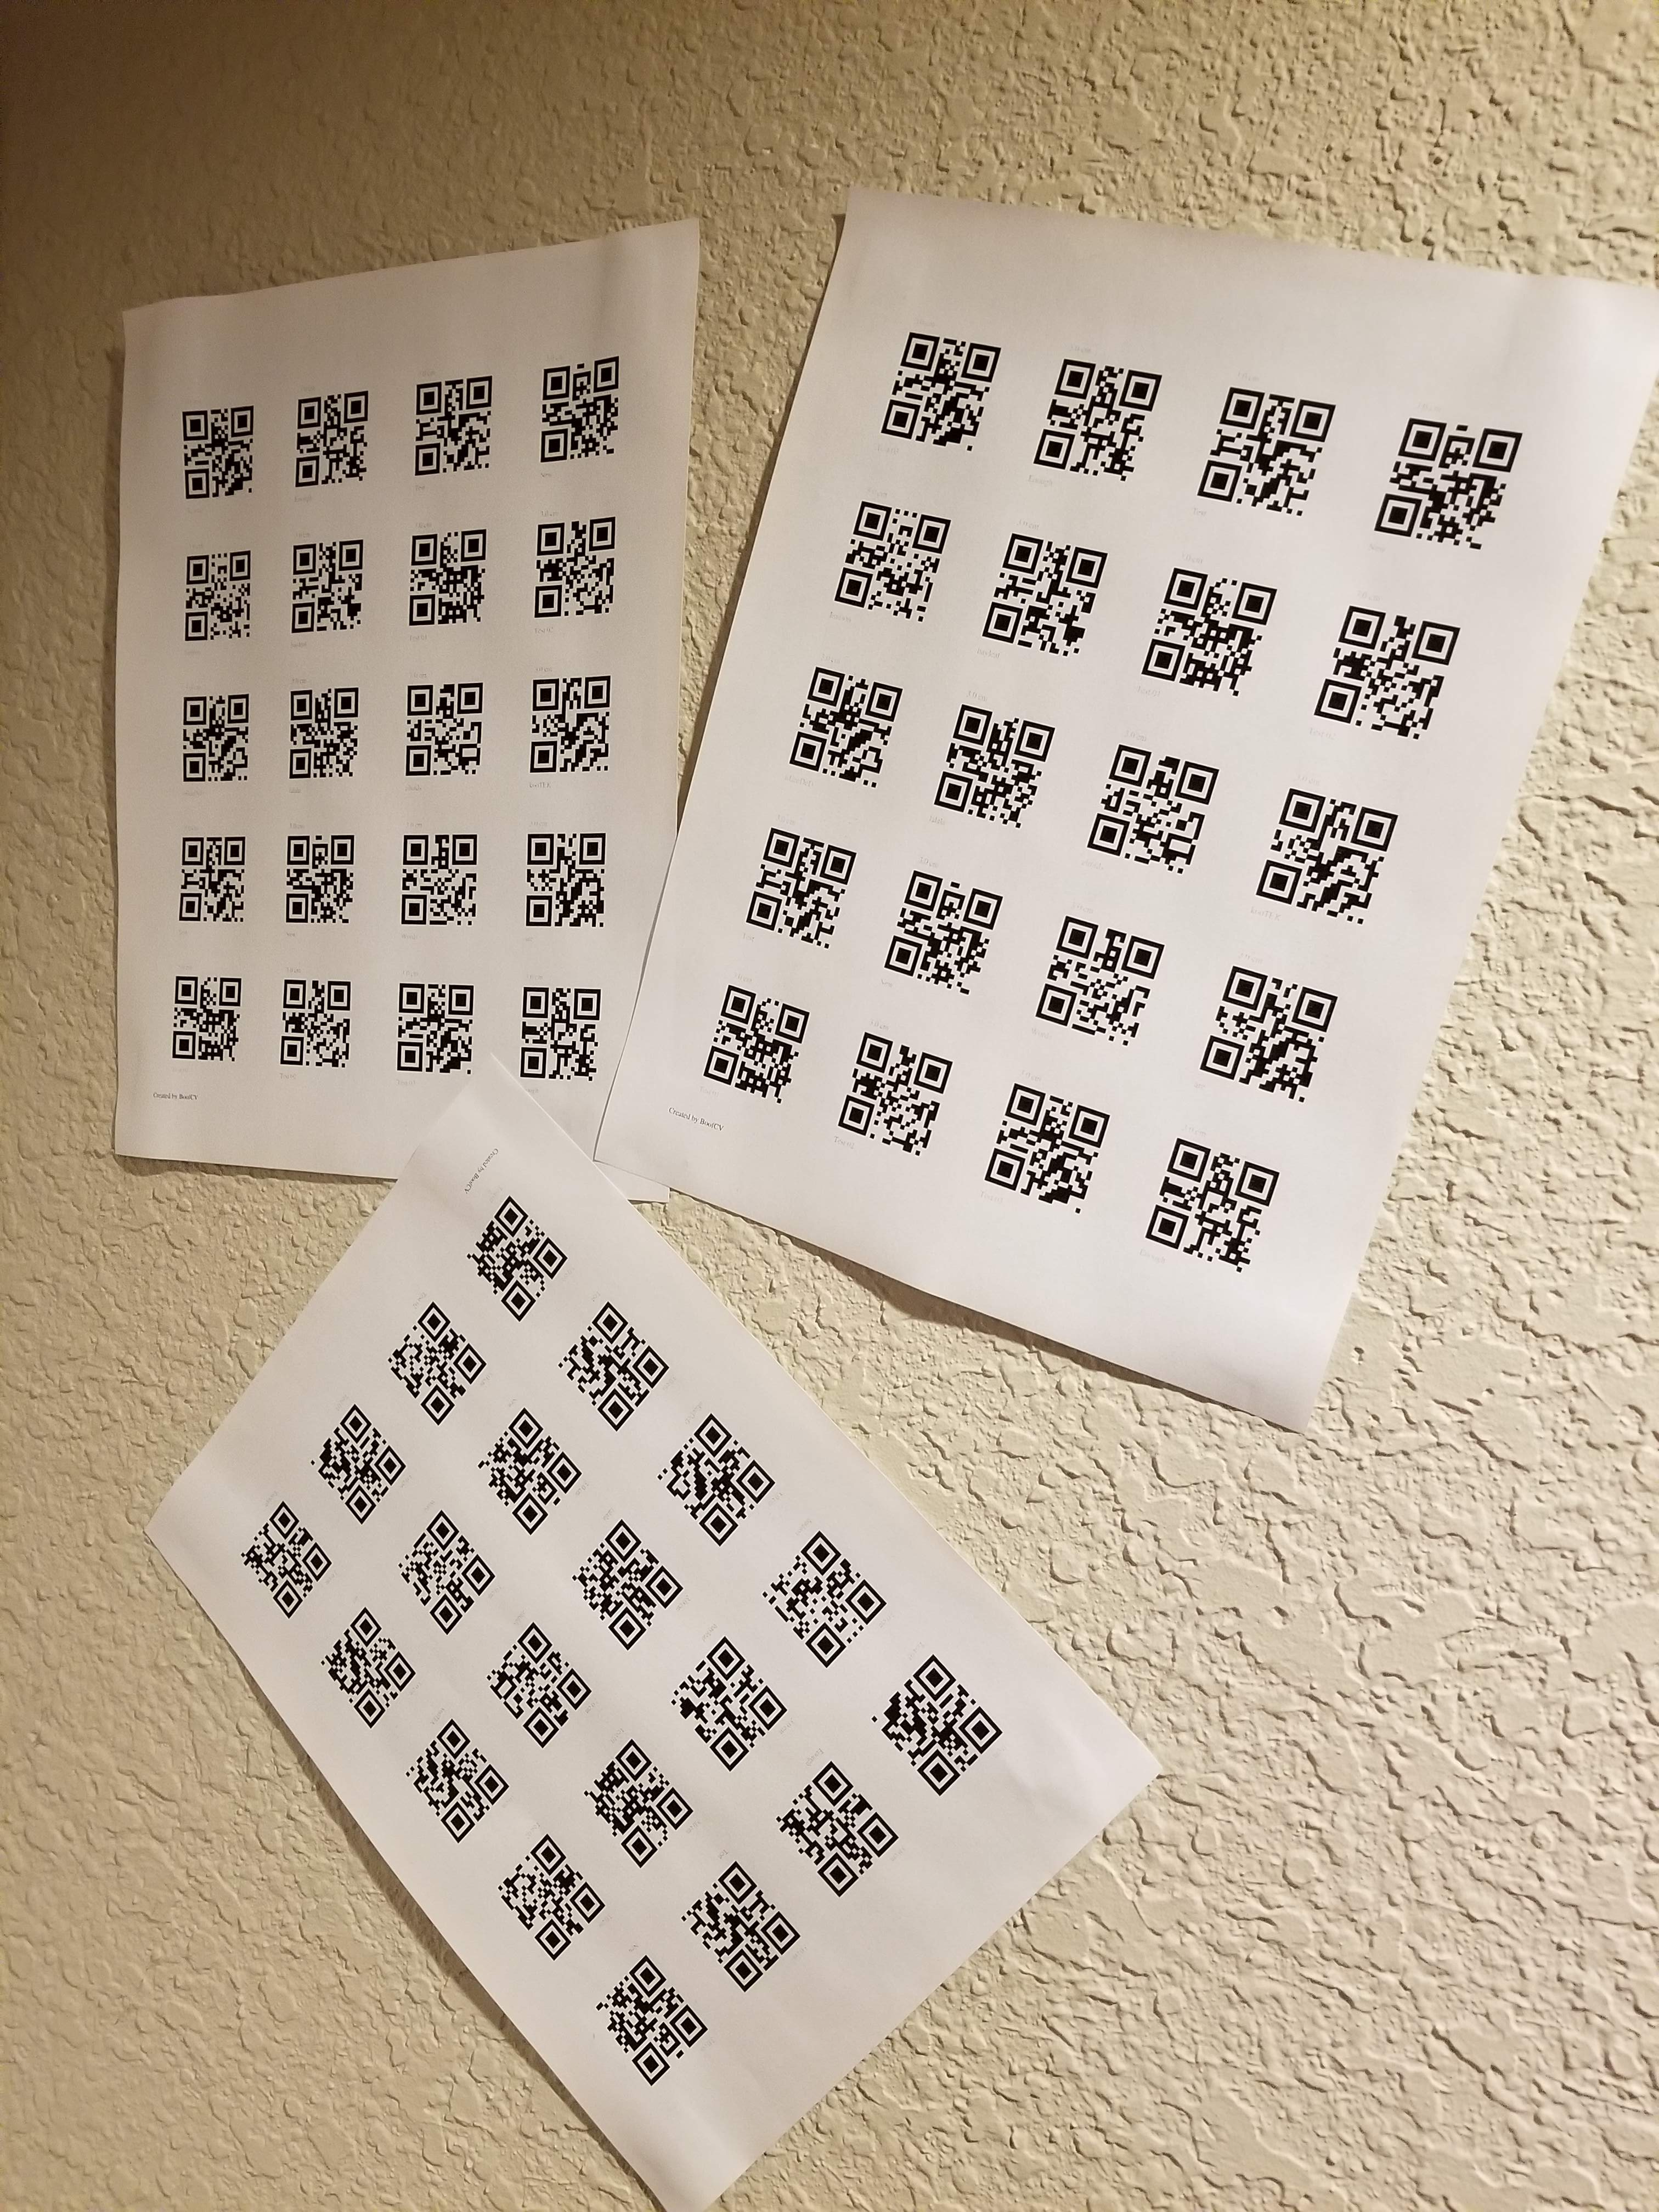QR_CODE: (1131, 1123, 1307, 1303), (1364, 402, 1534, 566), (1307, 583, 1467, 756), (1246, 768, 1406, 941), (1187, 948, 1344, 1122), (969, 1066, 1122, 1242), (767, 1750, 941, 1900), (1127, 542, 1284, 707), (1188, 362, 1338, 529), (1077, 726, 1223, 897), (859, 1642, 1012, 1804), (1018, 902, 1175, 1057), (814, 479, 967, 634), (1019, 347, 1171, 500), (756, 1517, 894, 1679), (559, 1503, 704, 1655), (823, 1014, 955, 1179), (671, 1851, 816, 2000), (582, 1947, 727, 2094), (873, 852, 1007, 1007), (864, 317, 1011, 458), (925, 690, 1061, 841), (662, 1622, 793, 1778), (971, 523, 1115, 664), (775, 653, 910, 803), (681, 968, 814, 1116), (647, 1407, 779, 1555), (375, 1289, 505, 1437), (551, 1296, 681, 1440), (579, 1730, 706, 1878), (450, 1186, 575, 1331), (477, 1613, 601, 1757), (471, 1395, 586, 1550), (295, 1392, 416, 1536), (734, 817, 861, 954), (491, 1825, 606, 1977), (383, 1510, 514, 1641), (221, 1480, 338, 1625), (401, 1716, 519, 1851), (312, 1601, 425, 1738), (263, 960, 375, 1099), (507, 820, 627, 946), (380, 664, 498, 791), (505, 970, 617, 1101), (392, 516, 502, 646), (519, 348, 633, 474), (519, 509, 633, 634), (396, 355, 498, 491), (507, 662, 619, 786), (155, 388, 270, 502), (380, 968, 488, 1087), (155, 531, 260, 653), (157, 817, 260, 937), (387, 820, 488, 941), (279, 669, 373, 798), (265, 822, 369, 937), (279, 376, 376, 498), (153, 956, 249, 1080), (281, 529, 382, 644), (164, 681, 260, 791)
